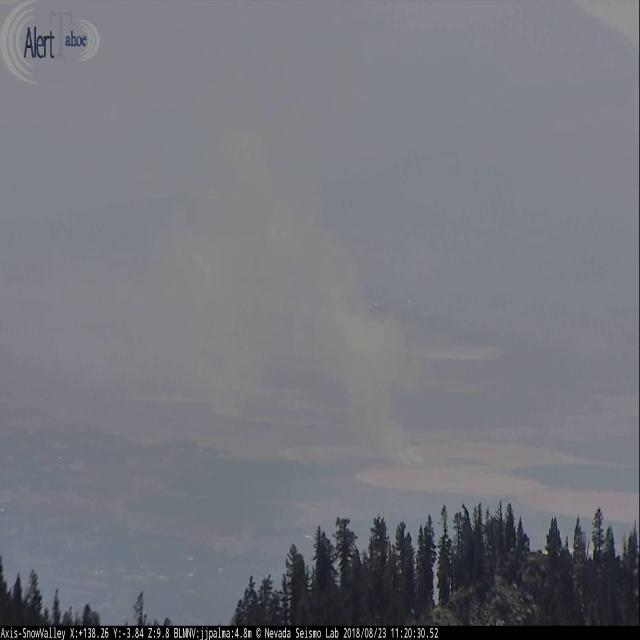smoke: (80, 103, 429, 461)
